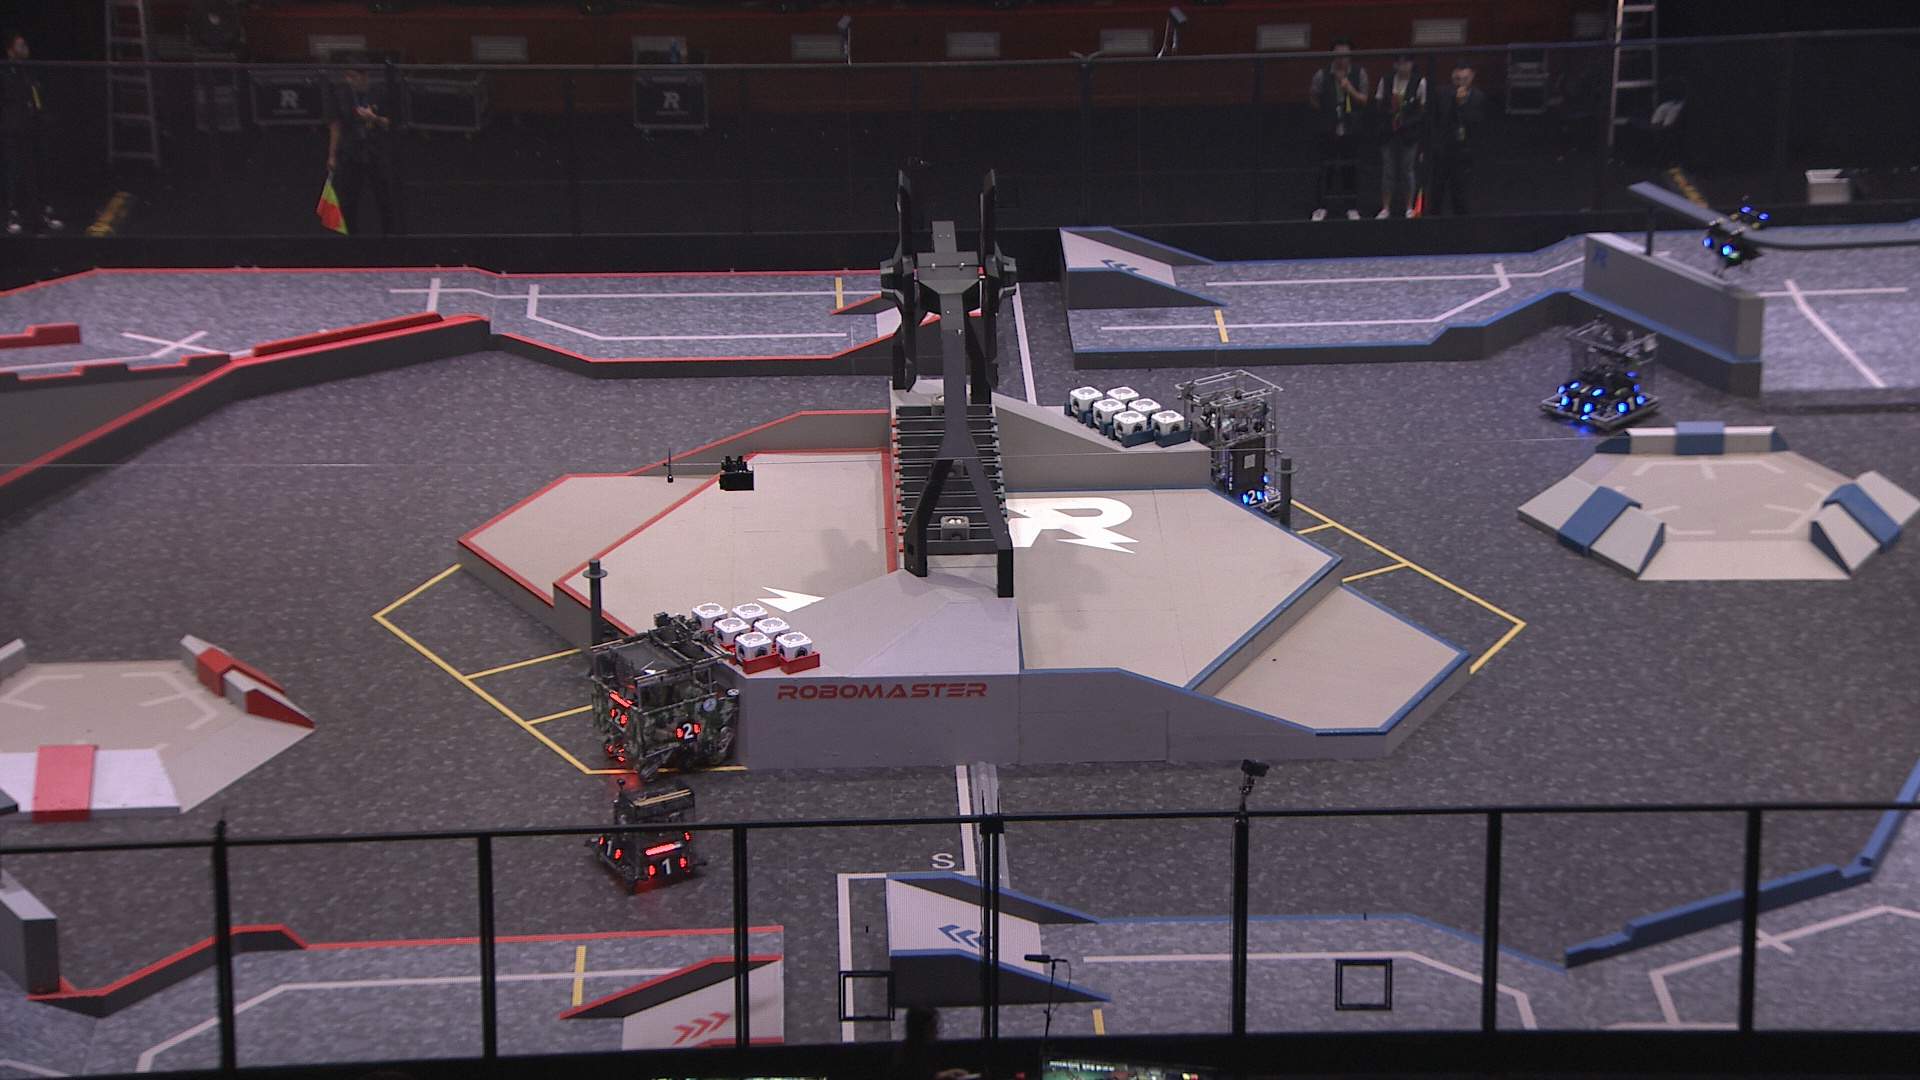armor: (644, 855, 690, 876), (1556, 394, 1594, 415), (1614, 392, 1648, 414), (593, 833, 621, 861), (1700, 233, 1731, 257), (1567, 381, 1605, 400), (673, 721, 703, 742), (1240, 488, 1263, 508), (608, 707, 629, 727)
car: (585, 611, 741, 779), (1172, 367, 1284, 520), (585, 774, 713, 895), (1542, 310, 1665, 431)
watcher: (1695, 194, 1768, 280)
